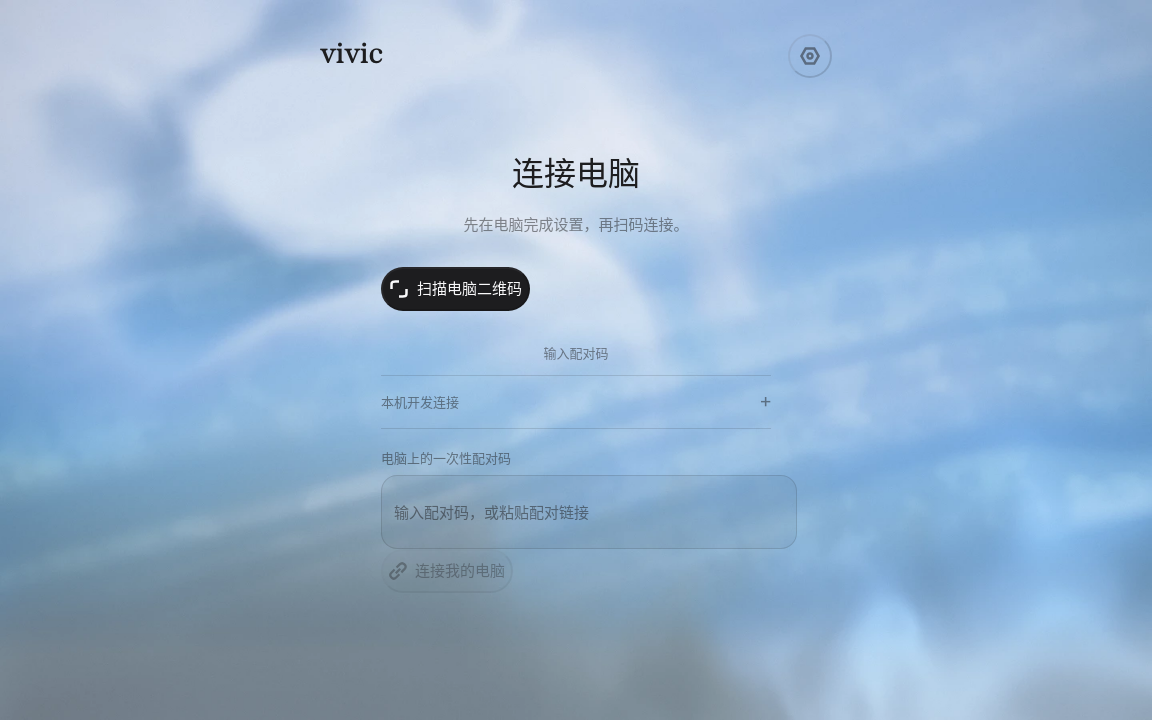
Test case: mobile execution feedback › offers a manual fallback when browser camera scanning is unavailable
Click the button "扫描电脑二维码" at coordinates (456, 289), box [381,267,530,311]
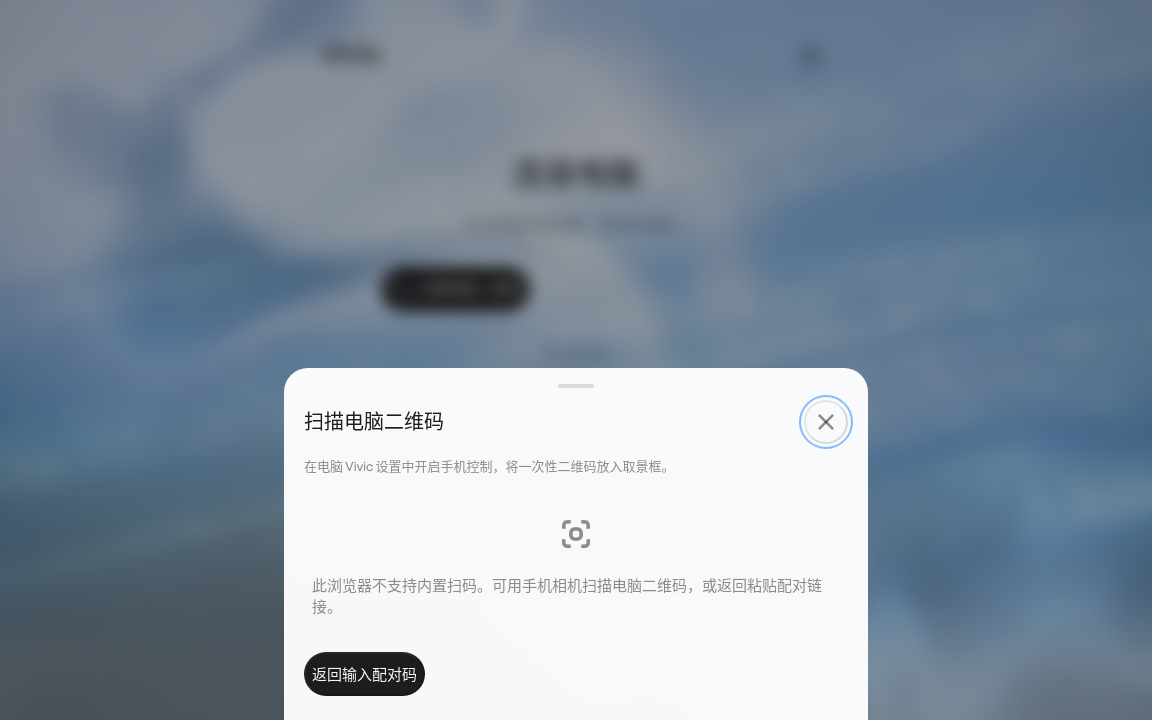
Now the text "此浏览器不支持内置扫码" is shown, box [312,576,822,615]
Click the button "返回输入配对码" at coordinates (364, 674), box [304,652,425,696]
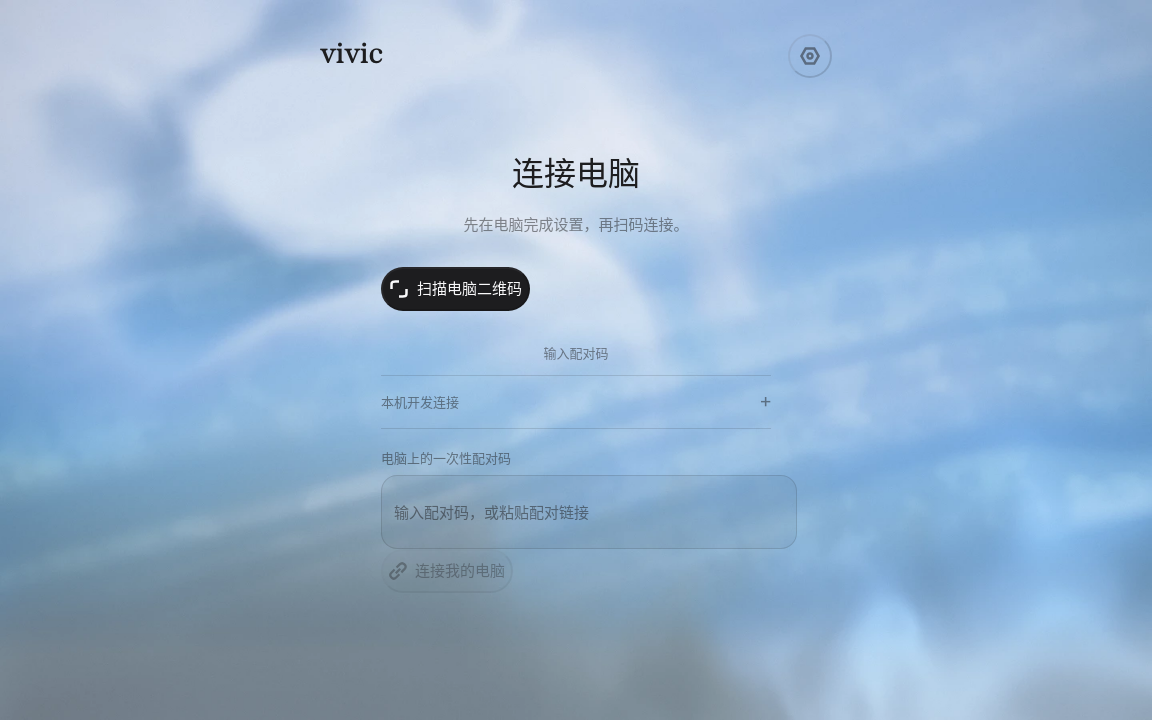
Now the dialog is gone
